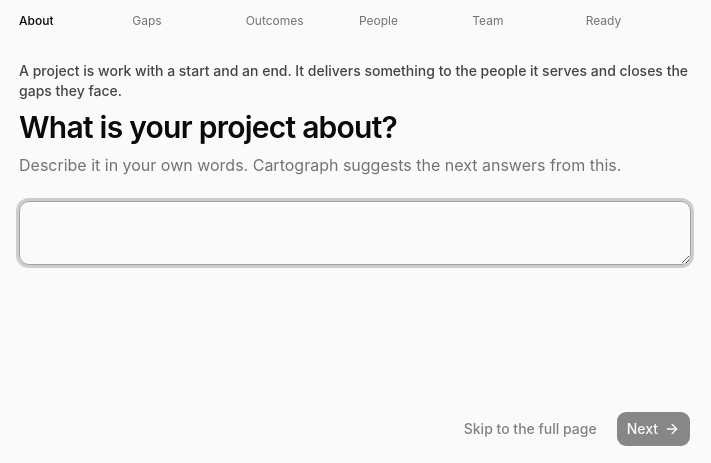
Test: finishing what was named in passing › says why a new name was not added
The width and height of the screenshot is (711, 463).
In the text box named "What is your project about?": (355, 233) x1=19 y1=201 x2=691 y2=265, type "Check every delivery at intake."
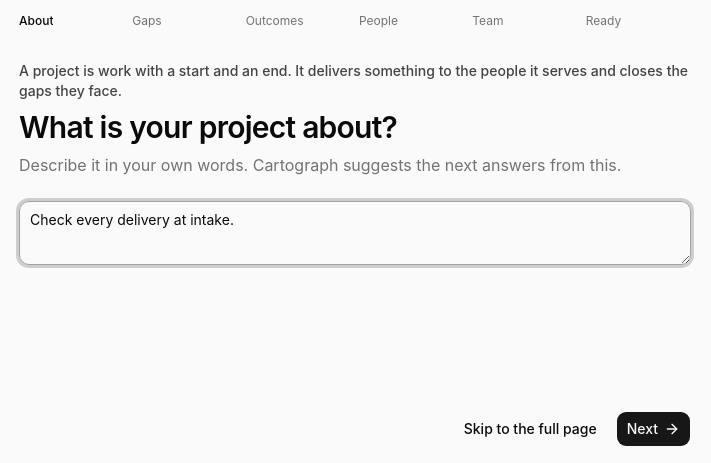
Click the button "Next": (653, 429) x1=616 y1=411 x2=691 y2=447
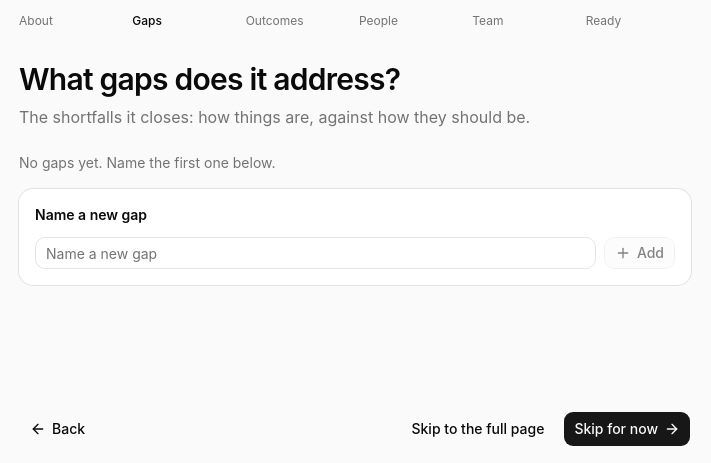
Now the heading "What gaps does it address?" is shown, box x1=19 y1=61 x2=400 y2=97
In the field with placeholder "Name a new gap": (315, 253) x1=35 y1=237 x2=596 y2=269, type "Depots check differently"
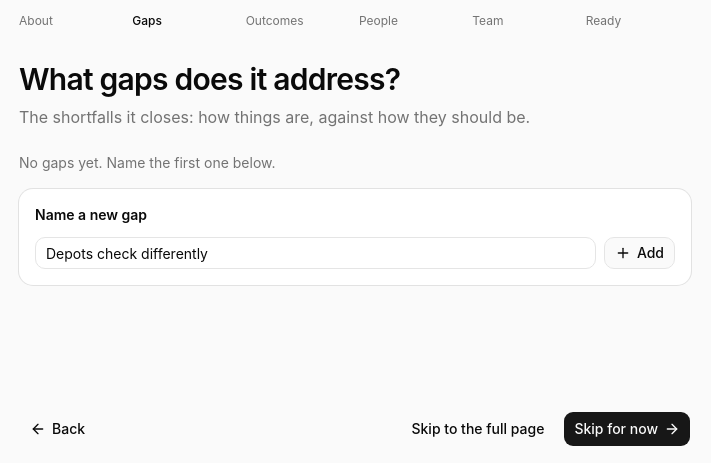
Click the button "Add": (639, 253) x1=604 y1=237 x2=675 y2=269
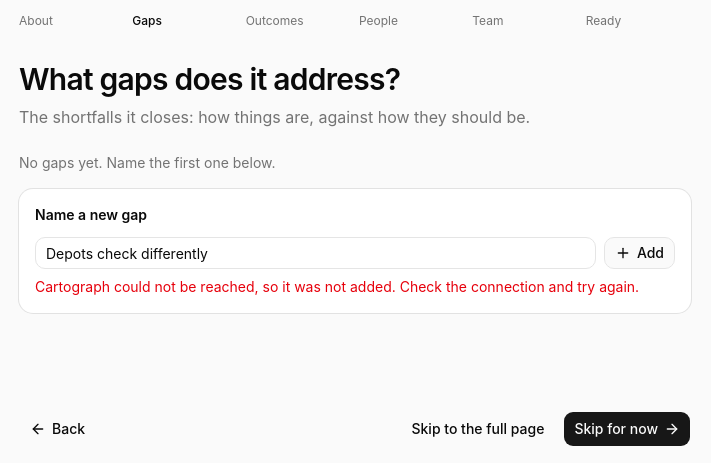
Now the message shows "Cartograph could not be reached, so it was not added. Check the connection and try again.", box x1=35 y1=278 x2=639 y2=295
